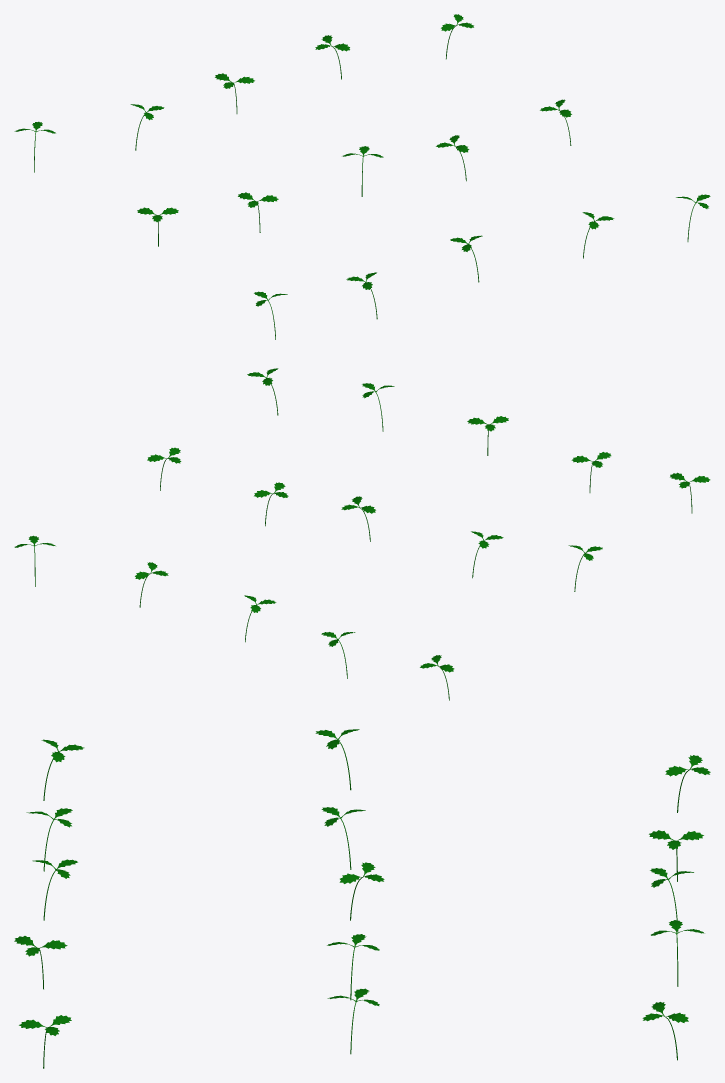
Rendered from Strawberry_lvl1.fbx.
The picture shows the model from 3 angles, top to bottom: view 1: azimuth 30°, elevation 25°; view 2: azimuth 150°, elevation 25°; view 3: azimuth 270°, elevation 25°; orthographic projection. The views are drawn at different scales.
Parts seen in each view (by area): view 1: Strawberry_lvl1_LOD0; view 2: Strawberry_lvl1_LOD0; view 3: Strawberry_lvl1_LOD0.
Part boxes in pixels (x1,y1,x2,y2): Strawberry_lvl1_LOD0: (14, 14, 710, 339); Strawberry_lvl1_LOD0: (14, 368, 710, 700); Strawberry_lvl1_LOD0: (14, 729, 710, 1068).
Size of what is drawn, in the model's own units: 91.86 by 91.52 by 11.6.
